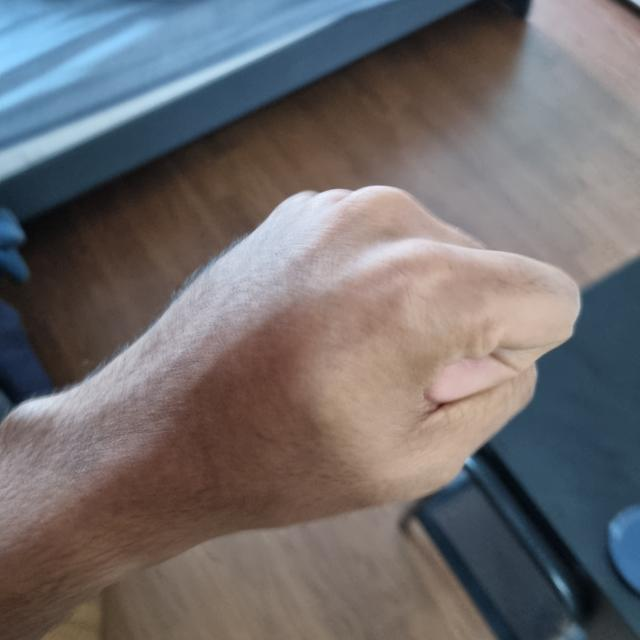Rock: (116, 192, 582, 530)
